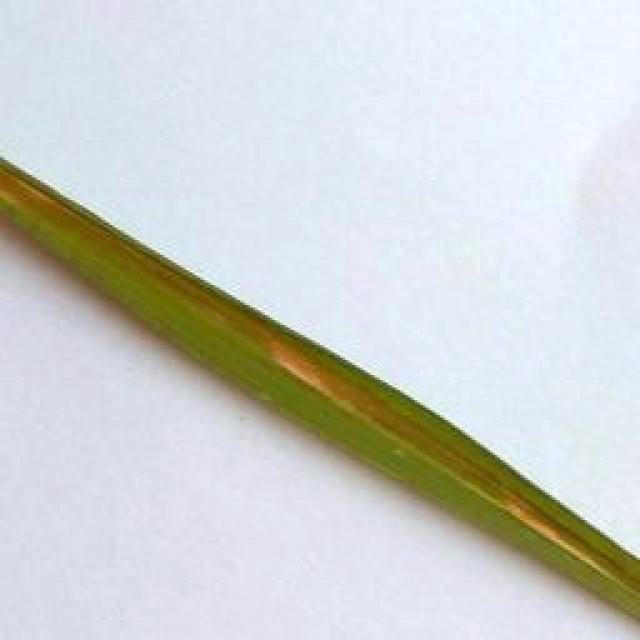Unhealthy: (0, 168, 631, 592)
